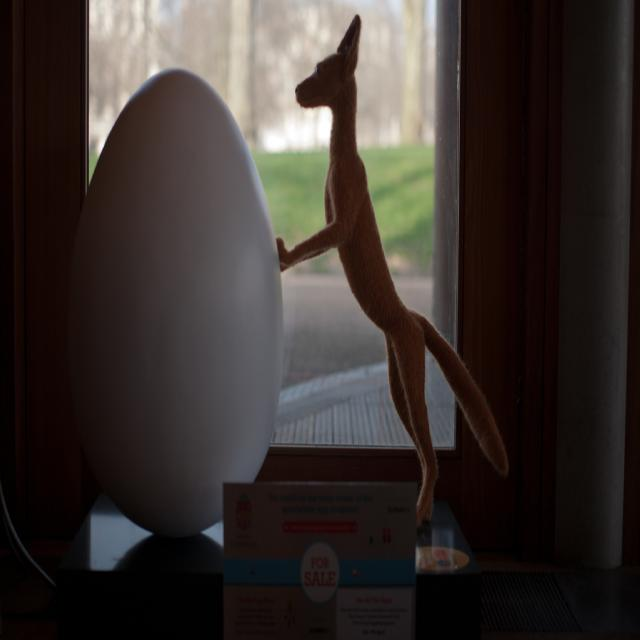Egg: (69, 66, 284, 541)
